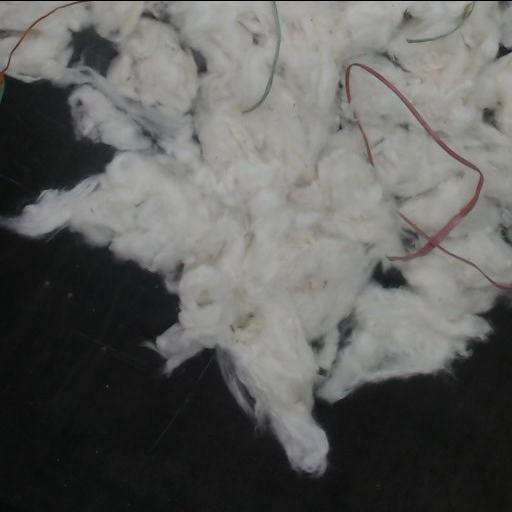conveyor belt: (0, 229, 511, 512), (0, 80, 109, 209)
cotton: (2, 1, 511, 475)
thread: (343, 62, 511, 290), (0, 1, 85, 89), (243, 1, 281, 111), (407, 1, 476, 42)
